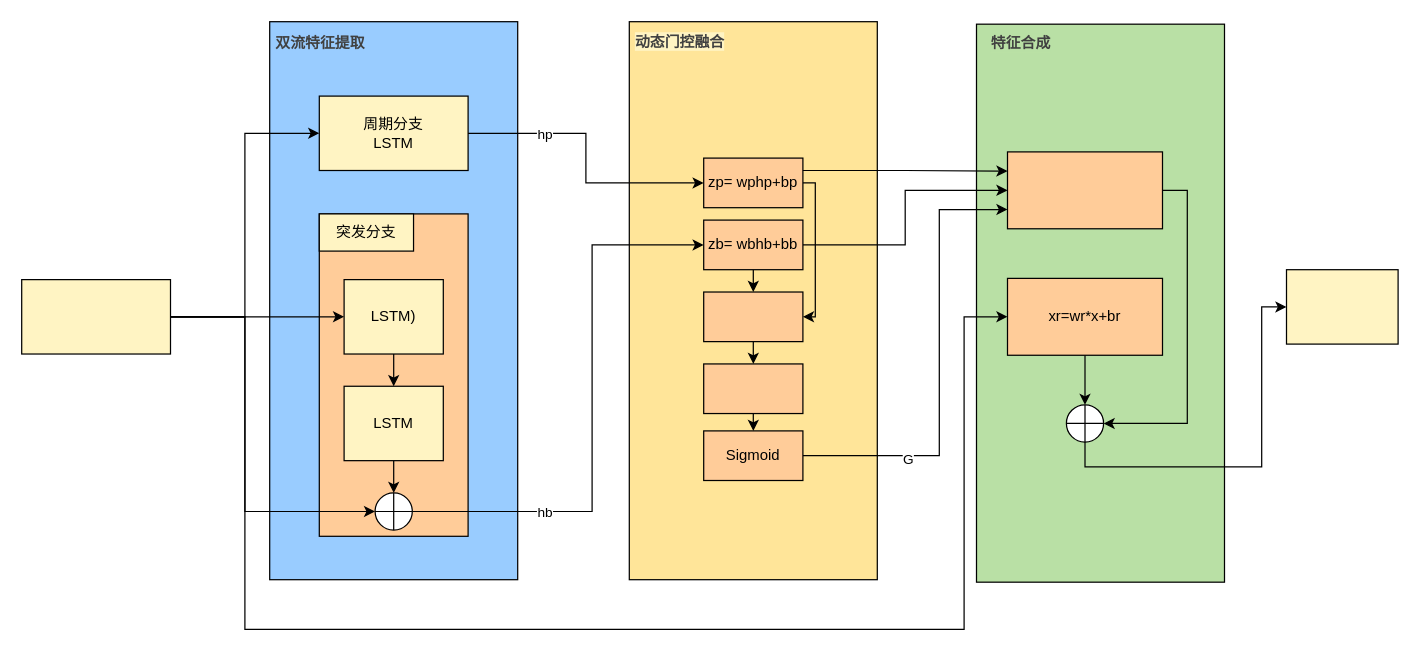
Some shapes in this 1420 by 661 pixel diagram are drawn without their labels. Each missing label, with the box of its shape:
z0=G*zp+(1-G)*zb: (1006, 151, 1162, 229)
zp||zb: (702, 291, 803, 342)
卷积: (702, 363, 803, 414)
输入x: (20, 278, 170, 354)
输出z: (1285, 268, 1398, 344)
